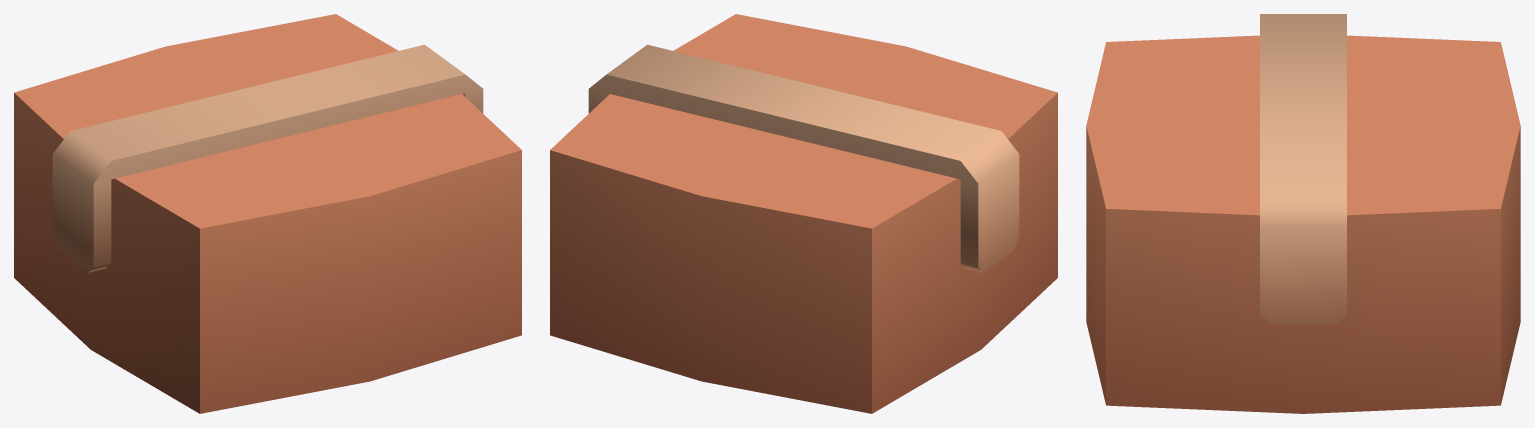
Rendered from k-box-large.glb.
3 renders of one model, left to right at view 1: azimuth 30°, elevation 25°; view 2: azimuth 150°, elevation 25°; view 3: azimuth 270°, elevation 25°, orthographic. The views are drawn at different scales.
Parts seen in each view (by area): view 1: box-large; view 2: box-large; view 3: box-large.
Boxes of the visible parts, bbox=[...] form: box-large: bbox=[14, 14, 521, 413]; box-large: bbox=[550, 14, 1057, 413]; box-large: bbox=[1086, 14, 1520, 413].
Size of the model in its own units: 1.1 by 0.55 by 1.
1 material, 1 textured.
